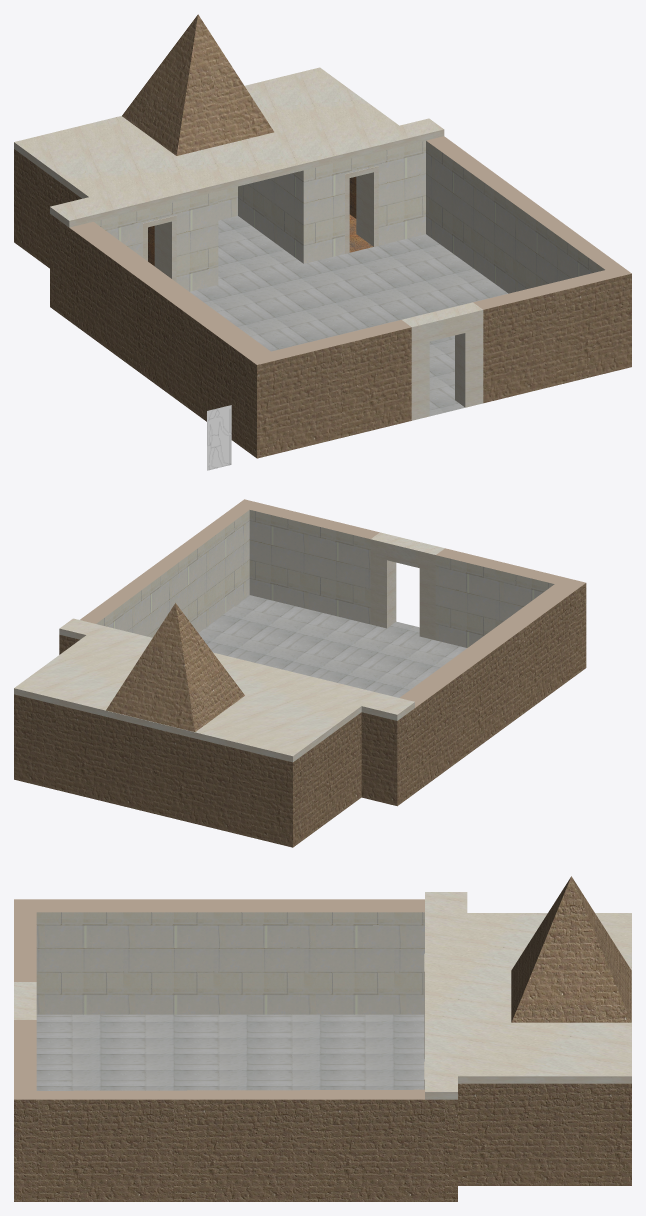
File: Tomb3.glb
3 views of the same model, one above another, from view 1: azimuth 30°, elevation 25°; view 2: azimuth 150°, elevation 25°; view 3: azimuth 270°, elevation 25° (orthographic). The views are drawn at different scales.
Parts seen in each view (by area): view 1: Mesh2 Model, Mesh1 Component_4_1 Model, Mesh3 Model; view 2: Mesh2 Model, Mesh1 Component_4_1 Model; view 3: Mesh2 Model, Mesh1 Component_4_1 Model.
Part boxes in pixels (x1,y1,x2,y2): Mesh2 Model: (14, 67, 631, 458); Mesh1 Component_4_1 Model: (122, 14, 273, 155); Mesh3 Model: (207, 405, 231, 470); Mesh2 Model: (14, 499, 586, 847); Mesh1 Component_4_1 Model: (106, 603, 244, 731); Mesh2 Model: (14, 892, 631, 1201); Mesh1 Component_4_1 Model: (511, 876, 631, 1022).
Bounding box in the file's own units: 11.89 × 5.62 × 13.68.
Materials: 9 (7 with a texture image).
